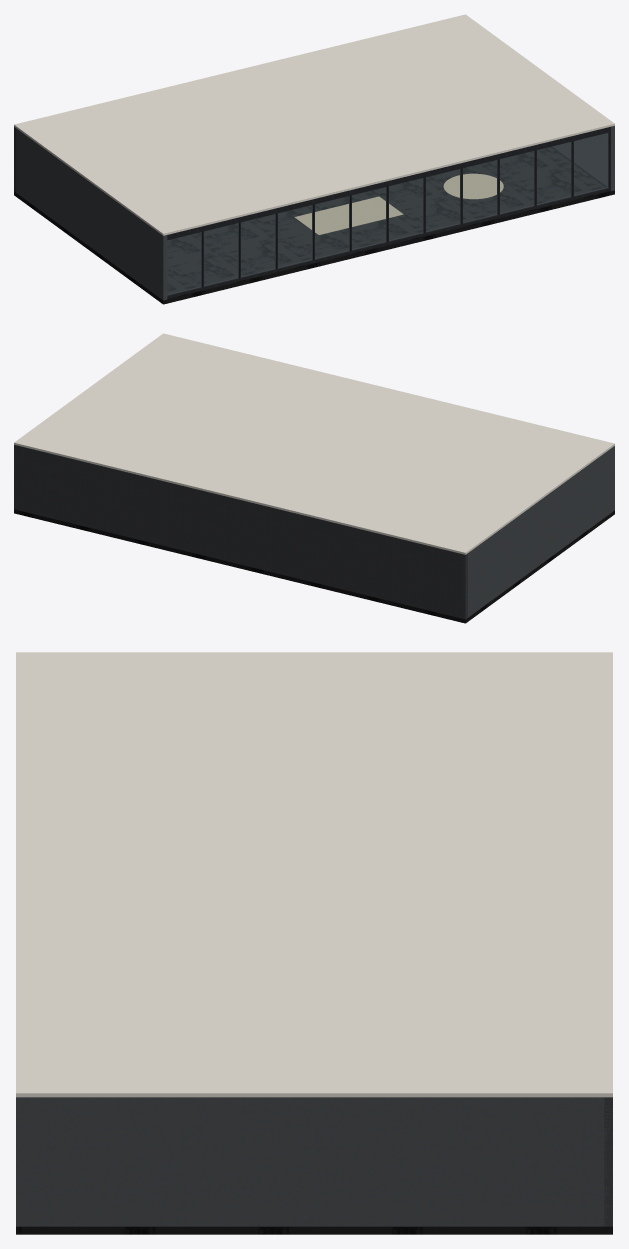
Rendered from office-shell-lower.glb.
3 views of the same model, one above another, from view 1: azimuth 30°, elevation 25°; view 2: azimuth 150°, elevation 25°; view 3: azimuth 270°, elevation 25° (orthographic). The views are drawn at different scales.
Parts seen in each view (by area): view 1: Shell_Ceiling, Shell_Glass, Shell_FloorTiles, Shell_Plaster, Shell_FrameMetal, Shell_Carpet; view 2: Shell_Ceiling, Shell_BackWall, Shell_Plaster, Shell_FloorTiles; view 3: Shell_Ceiling, Shell_Plaster, Shell_FloorTiles, Shell_BackWall.
Part boxes in pixels (bbox=[...]): Shell_Ceiling: bbox=[14, 14, 614, 235]; Shell_Glass: bbox=[167, 133, 608, 294]; Shell_FloorTiles: bbox=[14, 147, 614, 304]; Shell_Plaster: bbox=[14, 126, 614, 300]; Shell_FrameMetal: bbox=[167, 127, 610, 298]; Shell_Carpet: bbox=[294, 173, 503, 234]; Shell_Ceiling: bbox=[14, 333, 614, 554]; Shell_BackWall: bbox=[14, 445, 467, 619]; Shell_Plaster: bbox=[14, 445, 614, 619]; Shell_FloorTiles: bbox=[14, 509, 614, 623]; Shell_Ceiling: bbox=[16, 652, 612, 1097]; Shell_Plaster: bbox=[16, 1097, 612, 1226]; Shell_FloorTiles: bbox=[16, 1226, 612, 1234]; Shell_BackWall: bbox=[604, 1097, 612, 1226].
Size of the model in its own units: 23.4 by 3.5 by 13.4.
13 materials, 7 textured.
